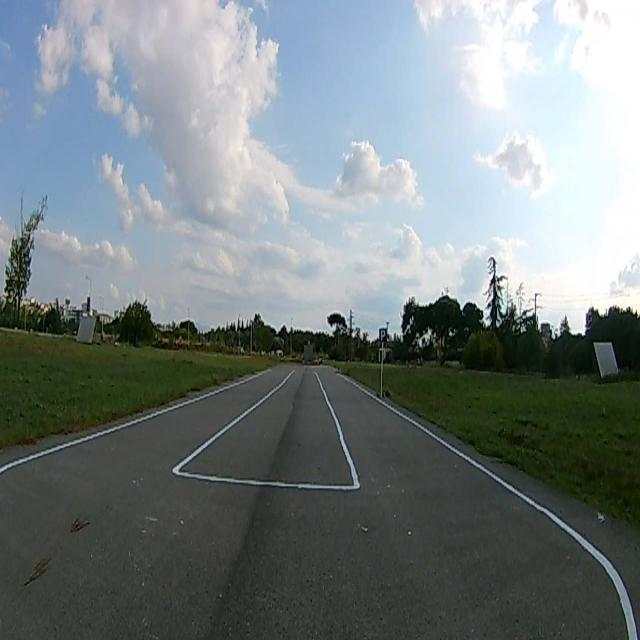park: (380, 328, 388, 344)
